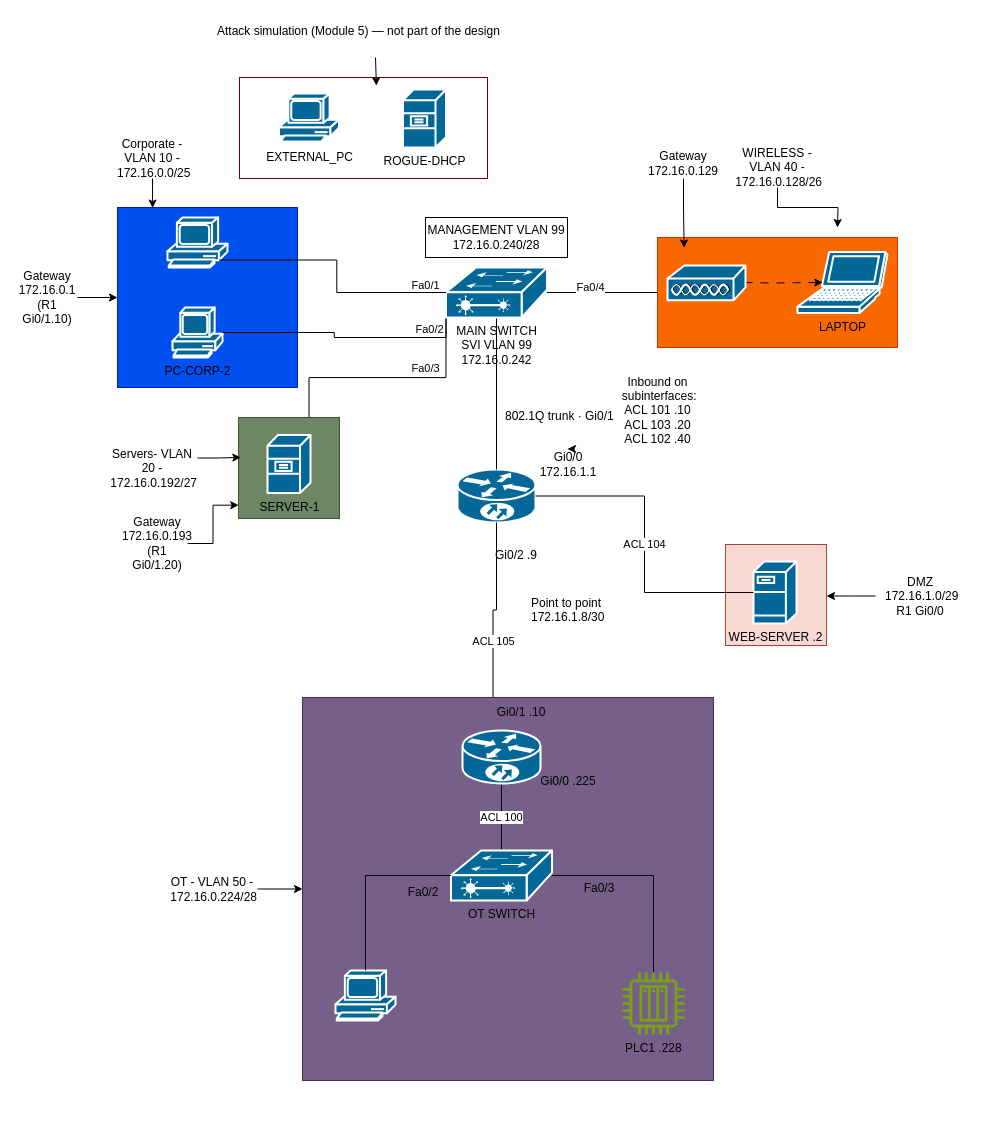
The diagram is 982 pixels wide and 1131 high, and some of its shapes have lost their labels. Each missing label, with the box of its shape:
AP1: (666, 264, 746, 301)
HMI01 .227: (334, 969, 396, 1021)
MAIN ROUTER: (456, 468, 536, 523)
OT ROUTER: (461, 729, 541, 784)
PC-CORP-1: (166, 216, 228, 268)
